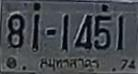1: (32, 14, 39, 50), (62, 14, 68, 50), (117, 16, 122, 50)
4: (74, 14, 91, 48)
5: (93, 14, 110, 49)
8: (7, 13, 24, 47)
SKN: (37, 53, 103, 72)
